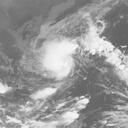cyclone: (28, 32, 80, 82)
